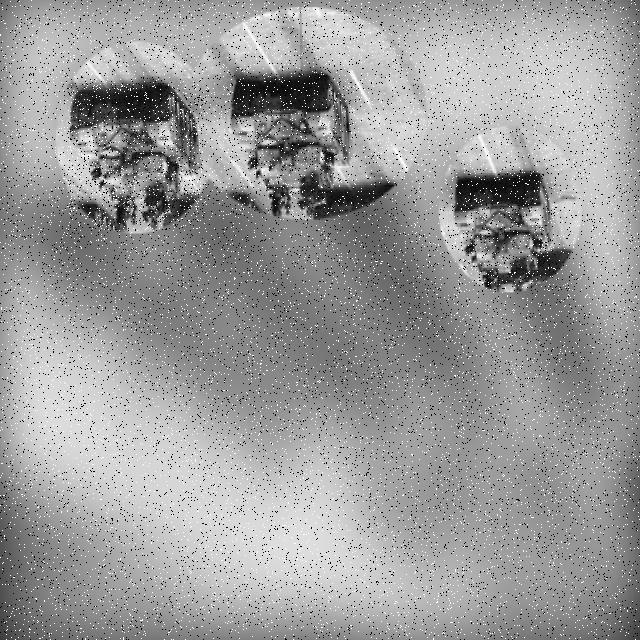MIL_MBT: (67, 84, 207, 231), (229, 76, 355, 215), (450, 172, 562, 292)
